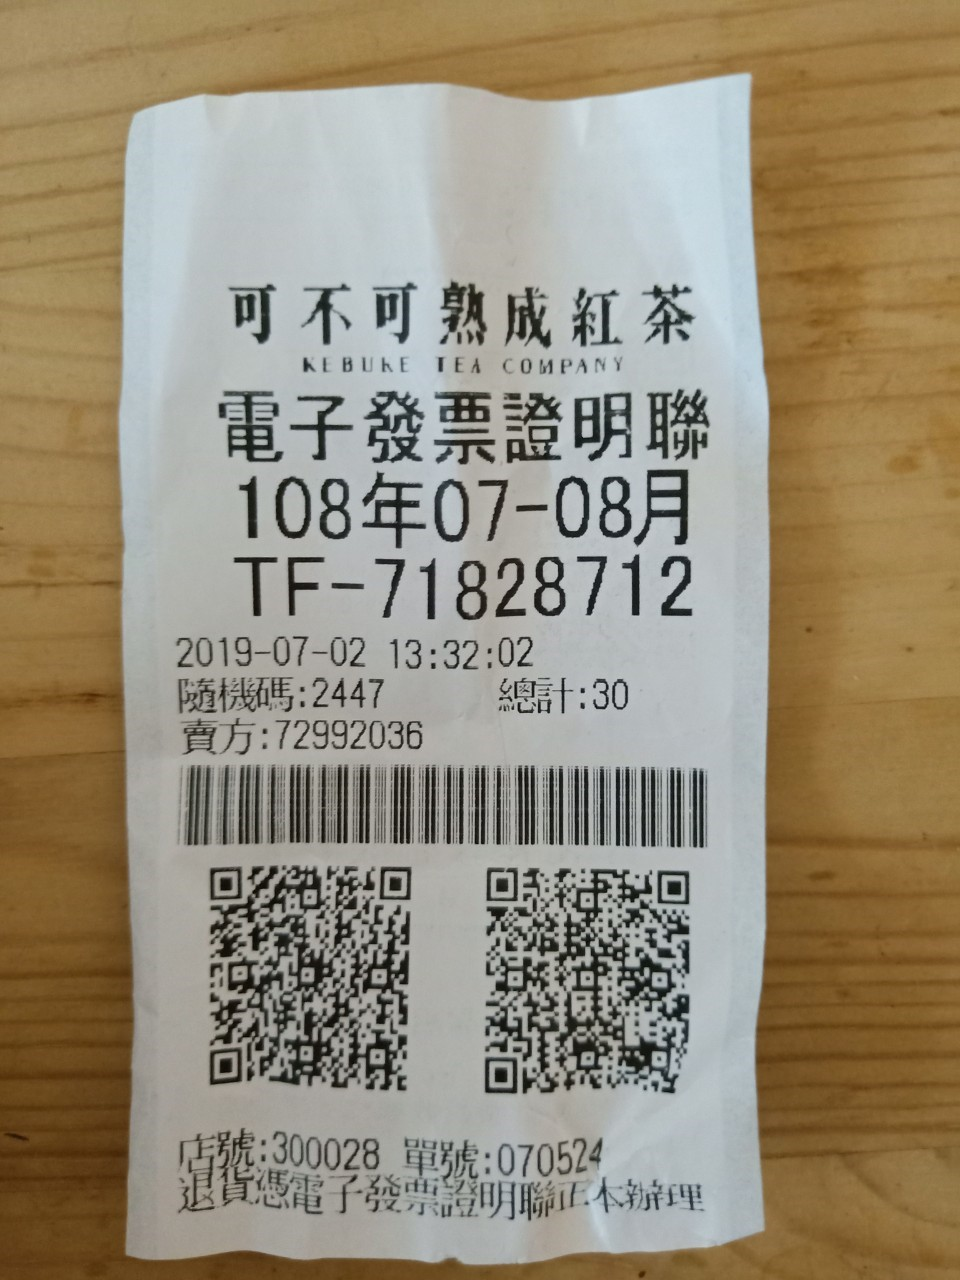Date_New: (235, 466, 697, 547)
Number_New: (371, 553, 698, 623)
